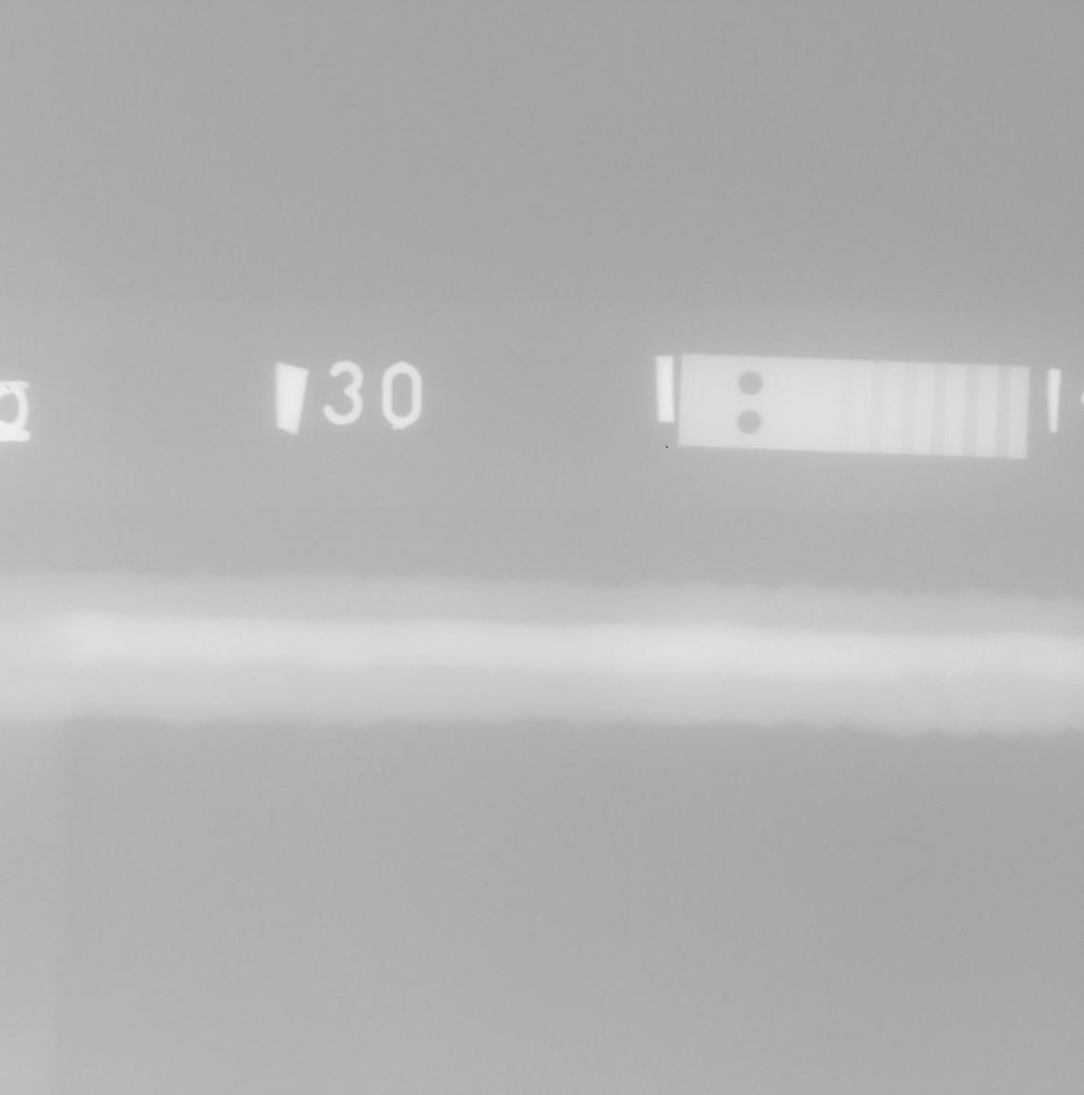Pore/Porosity: (949, 708, 957, 714), (1072, 713, 1079, 717)
Reference Standard 2: (678, 354, 1030, 460)
